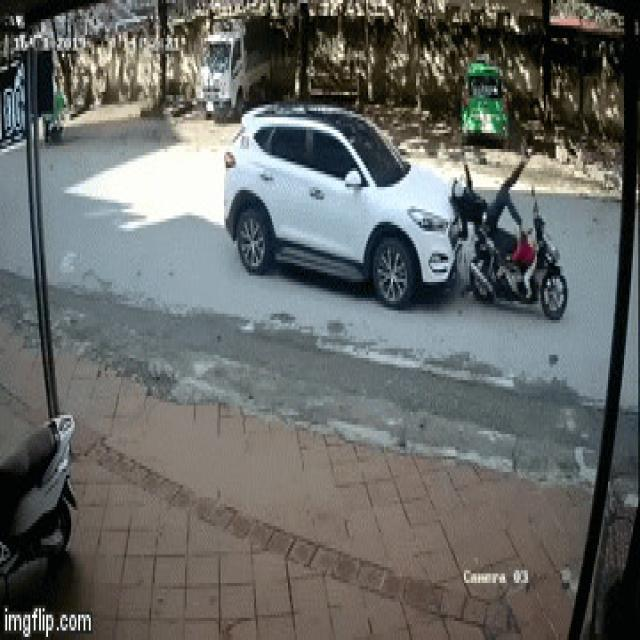multiple_accident: (218, 89, 573, 332)
